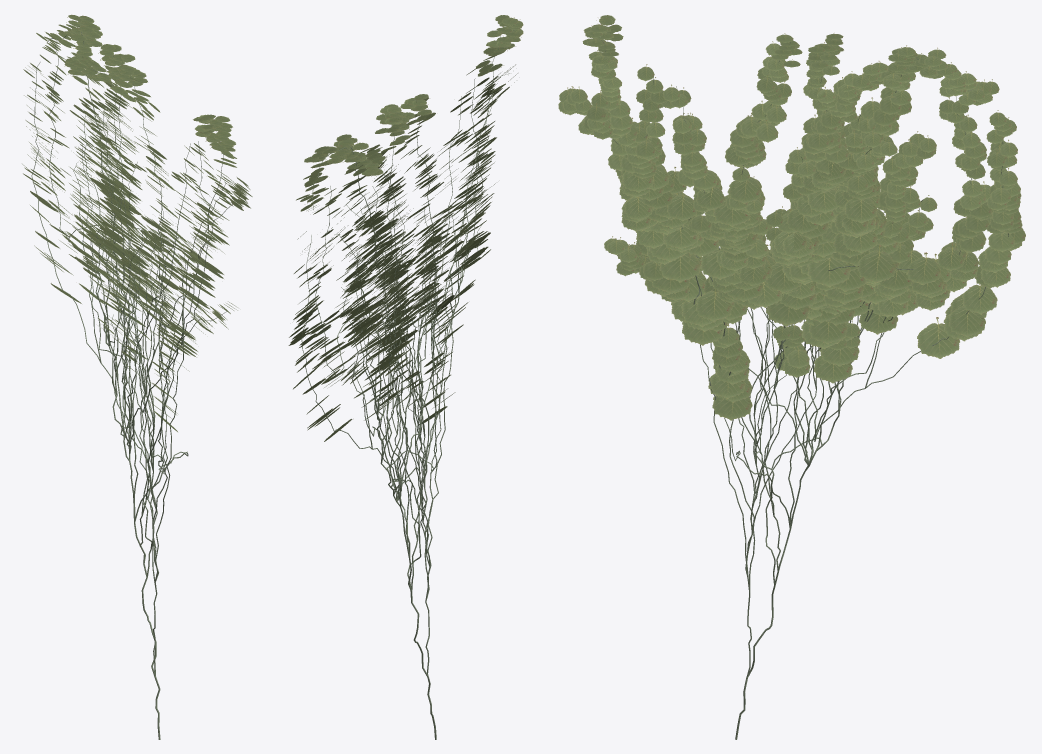
File: vine_2.fbx
3 renders of one model, left to right at view 1: azimuth 30°, elevation 25°; view 2: azimuth 150°, elevation 25°; view 3: azimuth 270°, elevation 25°, orthographic. The views are drawn at different scales.
Visible parts, largest first — view 1: IvyLeaf.001, IVY_Curve.001; view 2: IvyLeaf.001, IVY_Curve.001; view 3: IvyLeaf.001, IVY_Curve.001.
Part boxes in pixels (x1,y1,x2,y2): IvyLeaf.001: (22,14,252,431); IVY_Curve.001: (31,26,241,739); IvyLeaf.001: (288,15,523,441); IVY_Curve.001: (301,29,514,739); IvyLeaf.001: (558,15,1025,420); IVY_Curve.001: (600,37,1008,739).
Size of the model in its own units: 22.89 by 207 by 124.
